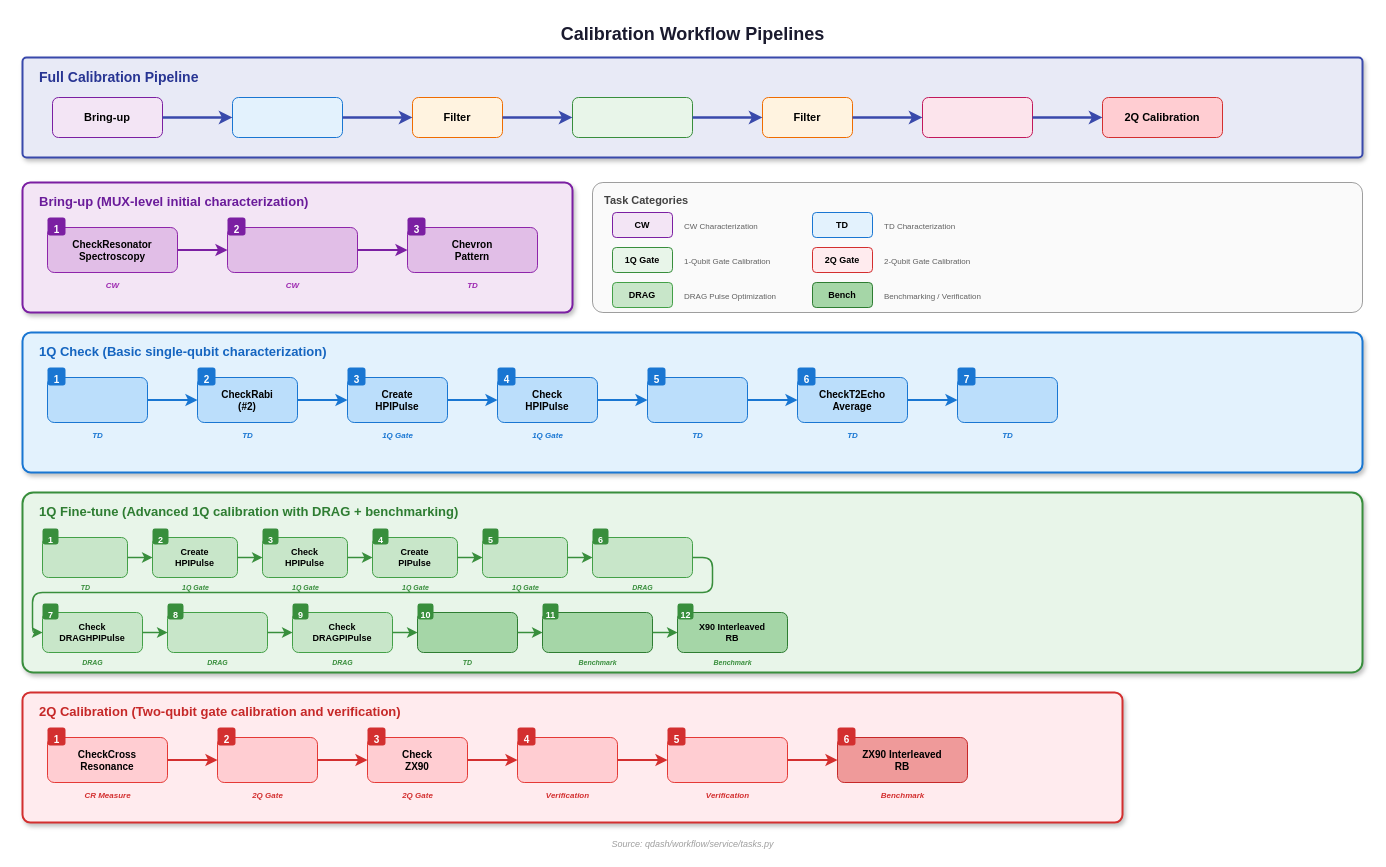
The diagram is 1386 pixels wide and 867 high, and some of its shapes have lost their labels. Each missing label, with the centre of its shape:
"1Q Check" belongs at [287,117].
"1Q Fine-tune" belongs at [632,117].
"Check PIPulse" belongs at [525,557].
"Check Rabi" belongs at [85,557].
"Check Ramsey" belongs at [1007,399].
"CheckBell State" belongs at [567,759].
"CheckBellState Tomography" belongs at [727,759].
"CheckQubit Spectroscopy" belongs at [292,249].
"CheckRabi (#1)" belongs at [97,399].
"CheckT1 Average" belongs at [697,399].
"CR Schedule" belongs at [977,117].
"Create DRAGHPIPulse" belongs at [642,557].
"Create DRAGPIPulse" belongs at [217,632].
"Create ZX90" belongs at [267,759].
"Randomized Benchmarking" belongs at [597,632].
"Readout Classification" belongs at [467,632].
